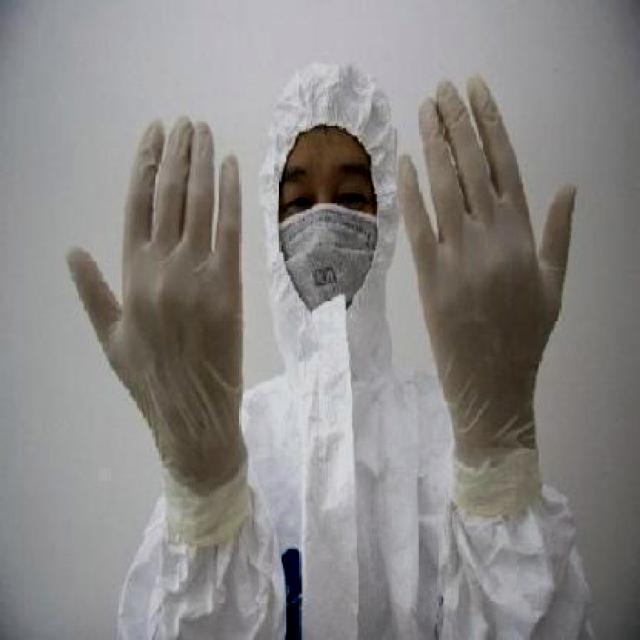face_nomask: (271, 126, 383, 339)
hand_glove: (397, 74, 580, 458), (63, 109, 248, 465)
head_nohelmet: (263, 60, 394, 168)
person: (43, 37, 614, 640)
